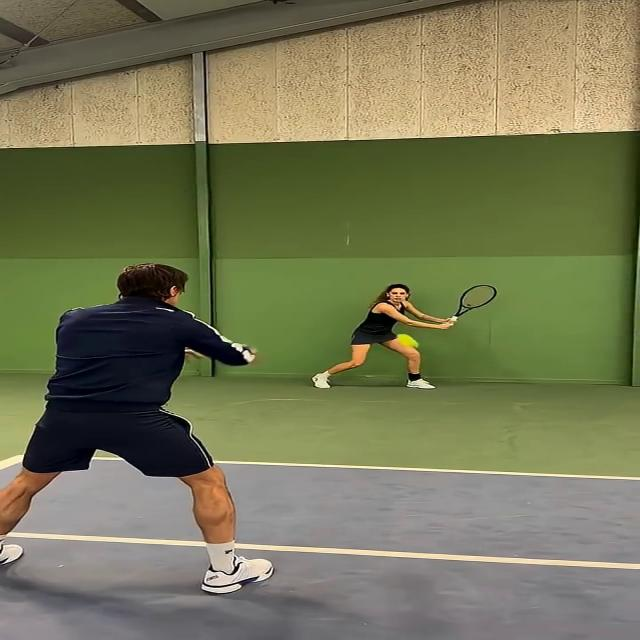tennis_ball: (399, 335, 412, 344)
